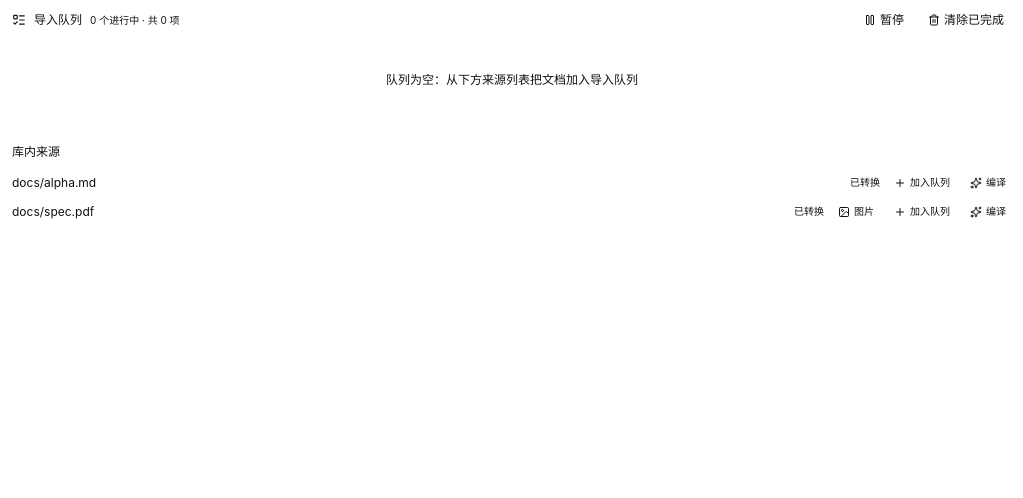
Test case: KbWikiTasks PDF 资产面板（issue 11） › 点击卡片显示详情：页内坐标与整页渲染参数
The image size is (1023, 498).
Expected: the text "docs/spec.pdf" is shown, [12,204,94,219]
Click the button titled "查看 PDF 图像资产" at (856, 212), box [832,203,880,221]
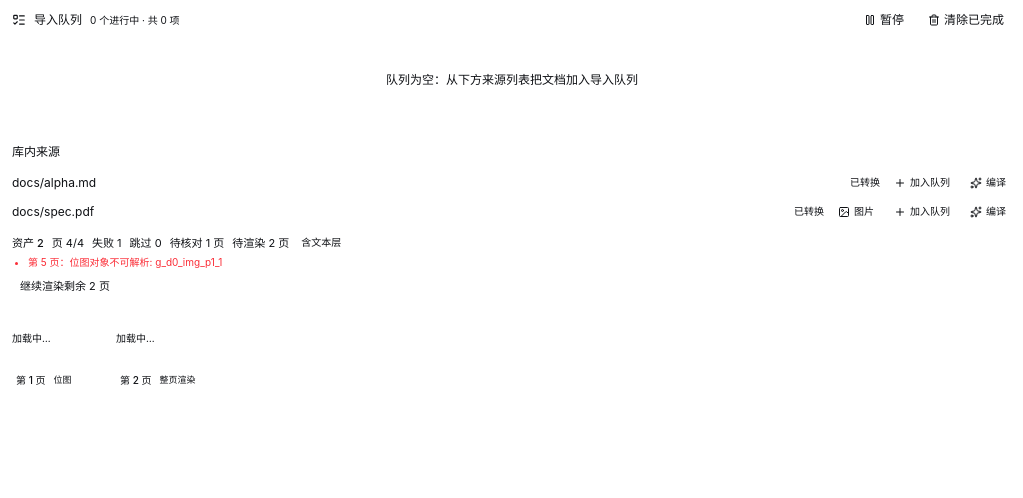
Click the button "加载中… 第 2 页 整页渲染" at (164, 348), box [116,307,212,390]
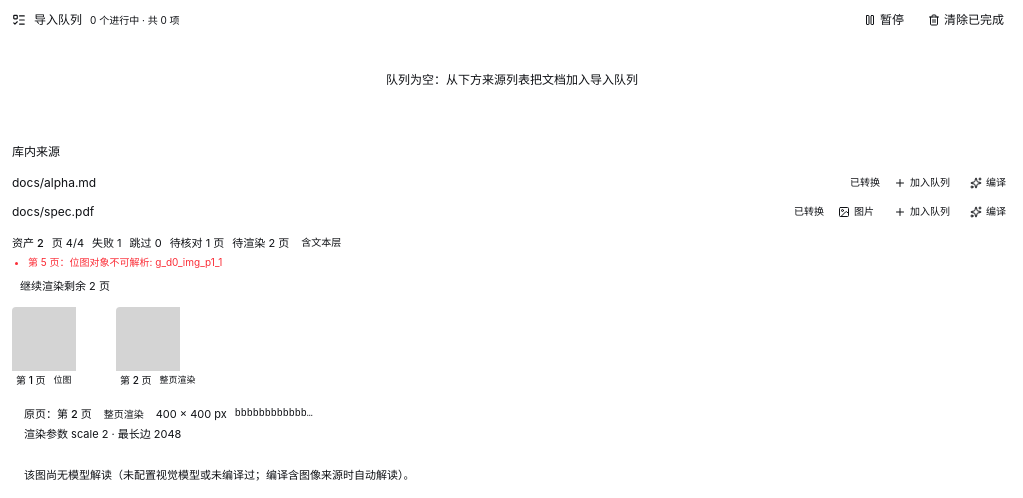
Expected: the element with test id "pdf-asset-detail" is shown, [24,407,313,441]
Expected: the text "400 × 400 px" is shown, [156,406,227,424]
Expected: the text "渲染参数 scale 2 · 最长边 2048" is shown, [24,426,181,440]
Note: 换位图卡片：rect 坐标可见
Click the button "第 1 页 位图" at (60, 348), box [12,307,108,390]
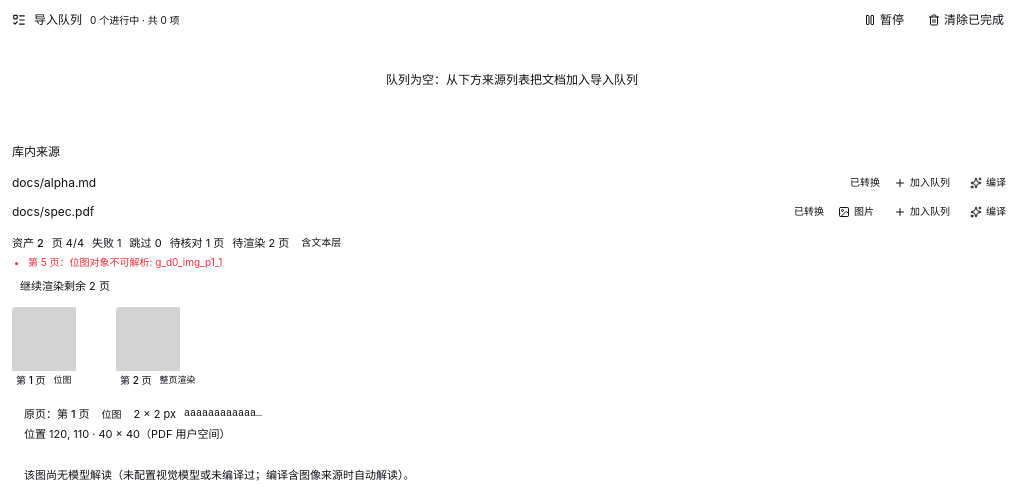
Expected: the text "位置 120, 110 · 40 × 40（PDF 用户空间）" is shown, [24,426,231,440]
